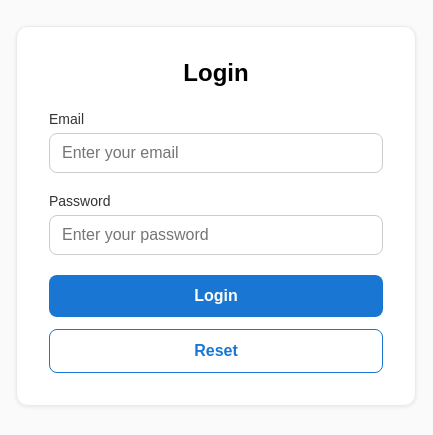
Test: Login Page › shows a length error when the password is shorter than 8 characters
The image size is (433, 435).
In the field labelled "Email": (216, 153) [49, 133, 383, 173], type "user@example.com"
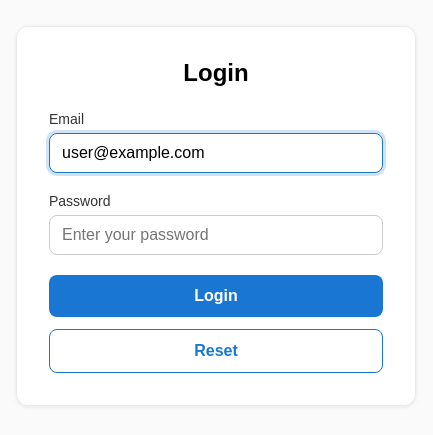
In the password field labelled "Password": (216, 235) [49, 215, 383, 255], type "short"
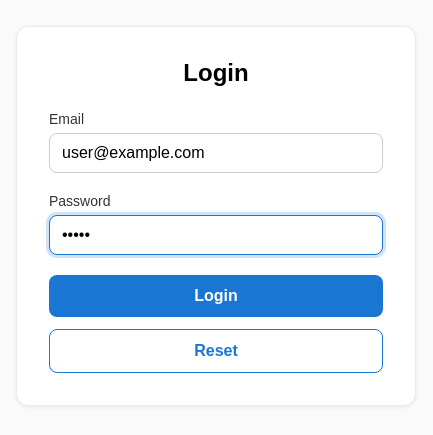
Click the button "Login": (216, 296) [49, 275, 383, 317]
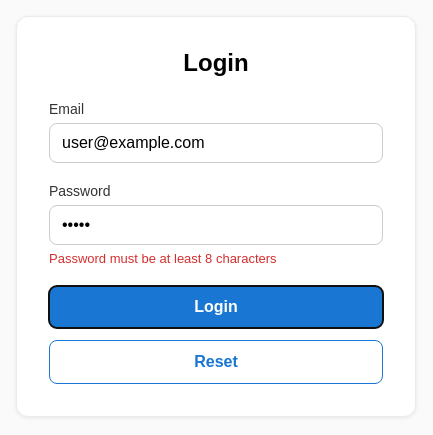
Now the text "Password must be at least 8 characters" is shown, box [49, 250, 277, 266]
